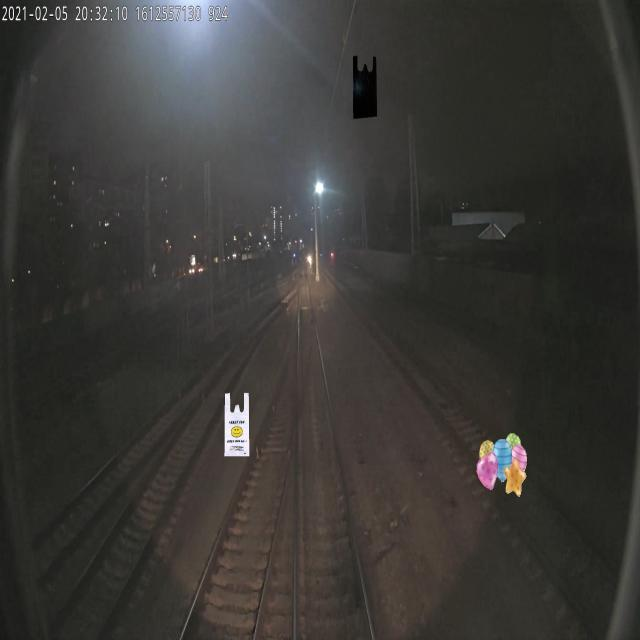balloon: (477, 432, 528, 497)
plastic bag: (224, 392, 250, 457), (352, 55, 378, 119)
